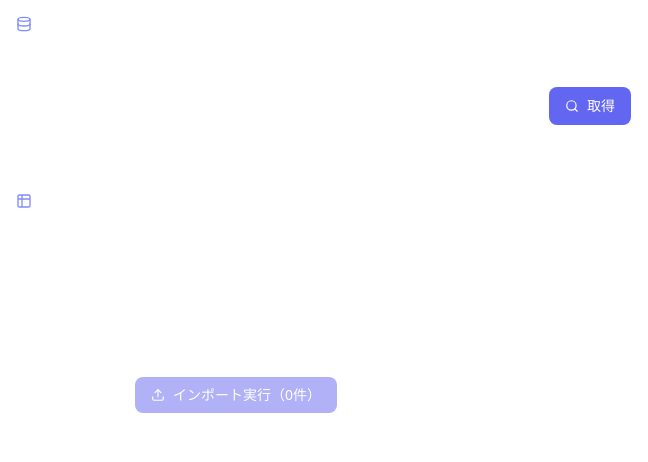
Salesforce demo mode › shows the demo message after an SF action is clicked without fetching
Click the button with class "lucide-search". click: {"x": 590, "y": 106}
box: [549,87,631,125]
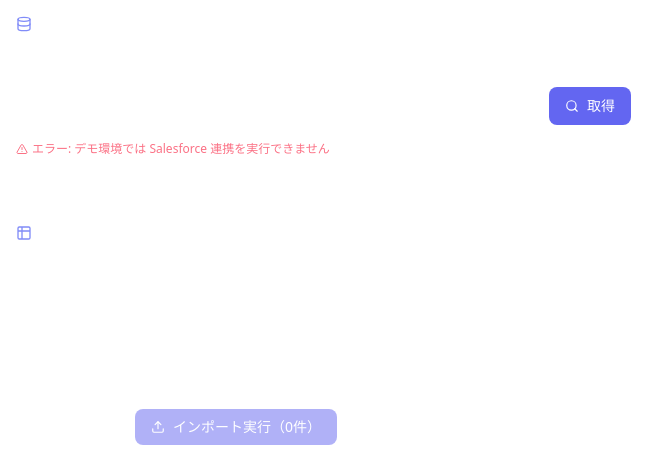
Check: the text "エラー: デモ環境では Salesforce 連携を実行できません" is shown, box [16,140,330,157]
